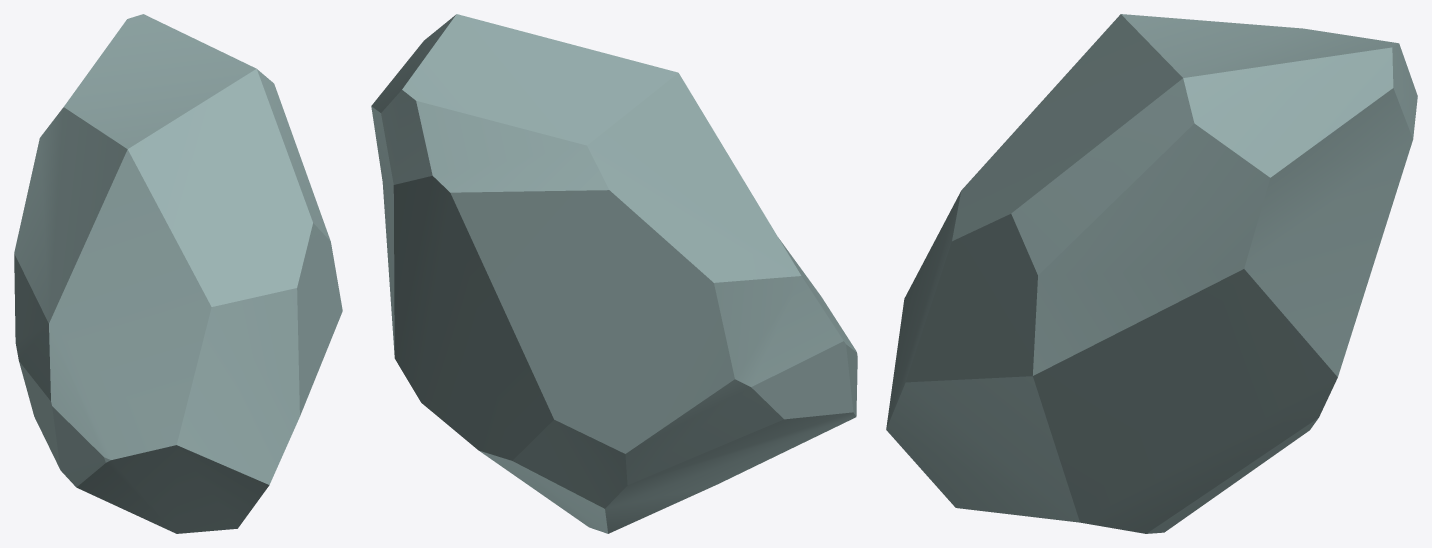
The model's file is rock2.fbx.
3 views of the same model, side by side, from view 1: azimuth 30°, elevation 25°; view 2: azimuth 150°, elevation 25°; view 3: azimuth 270°, elevation 25° (orthographic). The views are drawn at different scales.
Visible parts, largest first — view 1: rock2; view 2: rock2; view 3: rock2.
Boxes of the visible parts, box(x1,y1,x2,y2) form: rock2: box(14, 14, 342, 533); rock2: box(371, 14, 857, 533); rock2: box(886, 14, 1417, 533).
Bounding box in the file's own units: 970 × 1261 × 1143.
